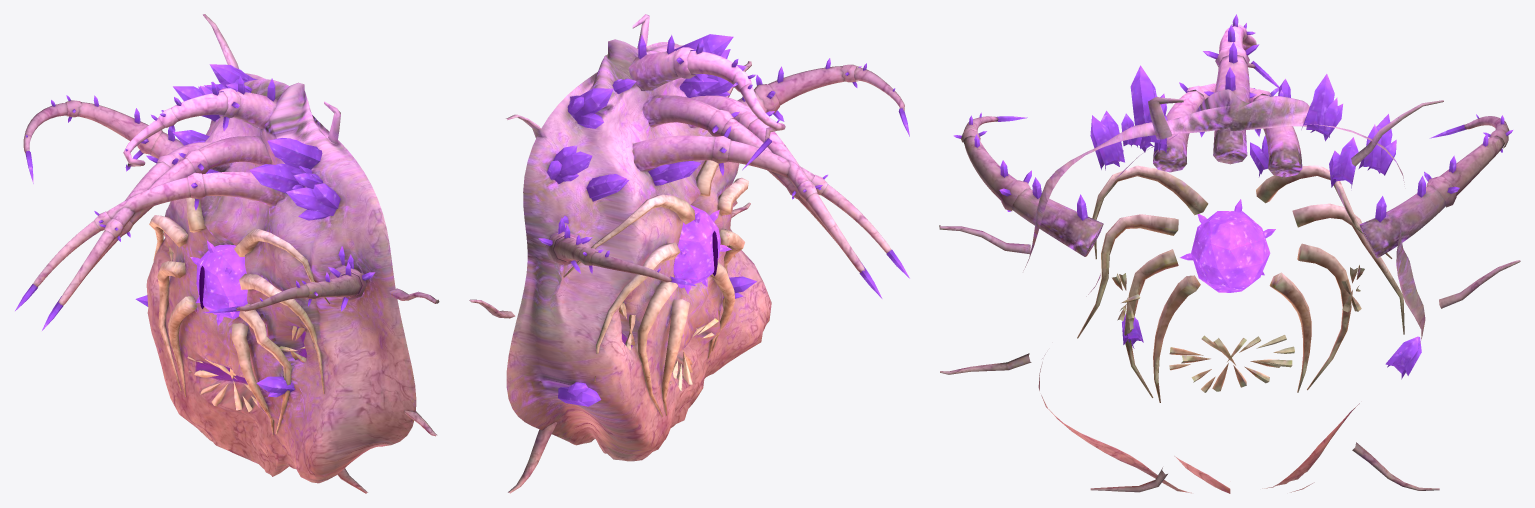
Rendered from reina.glb.
The picture shows the model from 3 angles, left to right: view 1: azimuth 30°, elevation 25°; view 2: azimuth 150°, elevation 25°; view 3: azimuth 270°, elevation 25°; orthographic projection. The views are drawn at different scales.
Parts seen in each view (by area): view 1: m_reina_cuerpo, m_reina_corazon, m_reina_tent_1_a, m_reina_tent_1_b, m_reina_tent_3_a, m_reina_tent_5_b, m_reina_tent_4_b, m_reina_tent_2_c, m_reina_tent_4_a, m_reina_tent_6_b, m_reina_tent_1_c, m_reina_tent_3_b (+5 smaller); view 2: m_reina_cuerpo, m_reina_corazon, m_reina_tent_2_a, m_reina_tent_6_b, m_reina_tent_3_a, m_reina_tent_2_b, m_reina_tent_4_a, m_reina_tent_4_b, m_reina_tent_1_c, m_reina_tent_2_c, m_reina_tent_5_c, m_reina_tent_1_b (+5 smaller); view 3: m_reina_cuerpo, m_reina_corazon, m_reina_tent_5_a, m_reina_tent_6_a, m_reina_tent_5_b, m_reina_tent_6_b, m_reina_tent_1_a, m_reina_tent_2_a, m_reina_tent_4_a, m_reina_tent_3_a, m_reina_tent_4_b, m_reina_tent_5_c (+1 smaller).
Part boxes in pixels (bbox=[...]): m_reina_cuerpo: bbox=[135, 14, 439, 493]; m_reina_corazon: bbox=[190, 240, 247, 325]; m_reina_tent_1_a: bbox=[202, 171, 285, 206]; m_reina_tent_1_b: bbox=[106, 172, 205, 219]; m_reina_tent_3_a: bbox=[198, 136, 271, 169]; m_reina_tent_5_b: bbox=[78, 95, 162, 159]; m_reina_tent_4_b: bbox=[171, 81, 240, 131]; m_reina_tent_2_c: bbox=[42, 219, 123, 330]; m_reina_tent_4_a: bbox=[233, 76, 277, 129]; m_reina_tent_6_b: bbox=[317, 262, 375, 311]; m_reina_tent_1_c: bbox=[15, 211, 110, 310]; m_reina_tent_3_b: bbox=[129, 150, 208, 224]; m_reina_cuerpo: bbox=[469, 14, 771, 493]; m_reina_corazon: bbox=[673, 205, 731, 293]; m_reina_tent_2_a: bbox=[632, 135, 715, 171]; m_reina_tent_6_b: bbox=[754, 58, 845, 121]; m_reina_tent_3_a: bbox=[642, 95, 719, 130]; m_reina_tent_2_b: bbox=[712, 126, 815, 181]; m_reina_tent_4_a: bbox=[628, 35, 680, 90]; m_reina_tent_4_b: bbox=[673, 39, 742, 83]; m_reina_tent_1_c: bbox=[797, 180, 882, 298]; m_reina_tent_2_c: bbox=[811, 174, 909, 278]; m_reina_tent_5_c: bbox=[579, 247, 697, 286]; m_reina_tent_1_b: bbox=[738, 110, 808, 188]; m_reina_cuerpo: bbox=[939, 65, 1520, 493]; m_reina_corazon: bbox=[1180, 199, 1275, 292]; m_reina_tent_5_a: bbox=[1359, 176, 1445, 258]; m_reina_tent_6_a: bbox=[1012, 177, 1103, 256]; m_reina_tent_5_b: bbox=[1424, 133, 1504, 207]; m_reina_tent_6_b: bbox=[964, 134, 1031, 211]; m_reina_tent_1_a: bbox=[1153, 90, 1204, 172]; m_reina_tent_2_a: bbox=[1253, 94, 1302, 177]; m_reina_tent_4_a: bbox=[1214, 42, 1249, 103]; m_reina_tent_3_a: bbox=[1213, 128, 1247, 164]; m_reina_tent_4_b: bbox=[1203, 14, 1259, 67]; m_reina_tent_5_c: bbox=[1429, 114, 1512, 152].
Bounding box in the file's own units: 12.74 × 16.83 × 21.03.
Materials: 3 (3 with a texture image).
